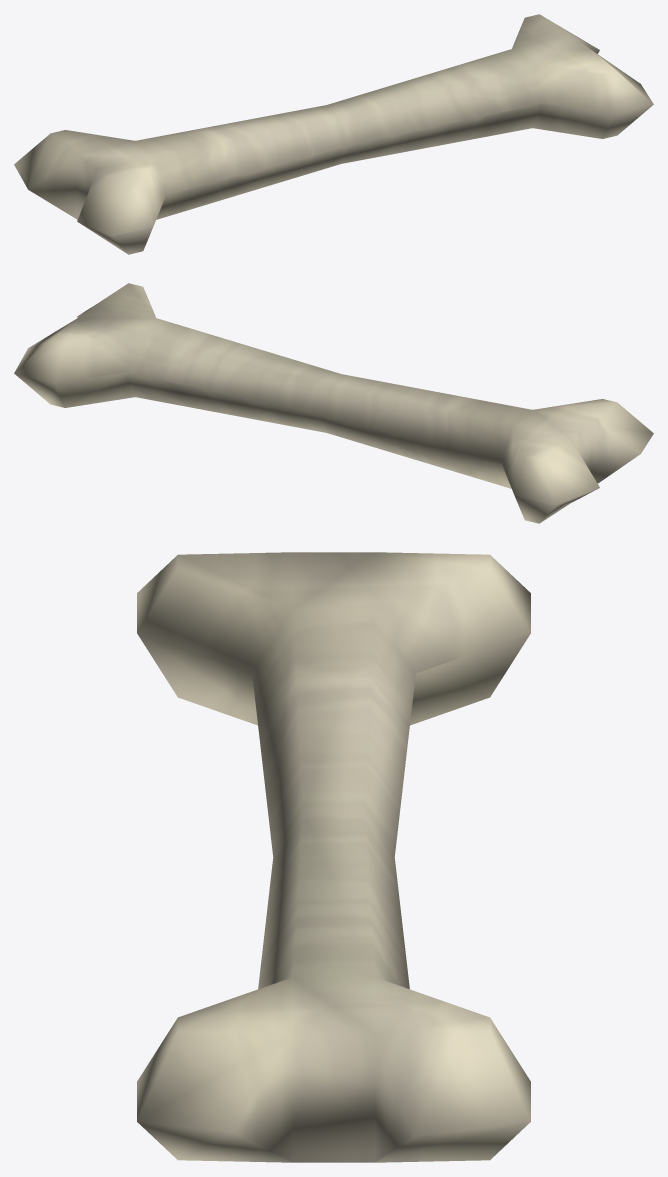
Rendered from Ctn_horse_skeleton_01_v03.fbx.
The picture shows the model from 3 angles, top to bottom: view 1: azimuth 30°, elevation 25°; view 2: azimuth 150°, elevation 25°; view 3: azimuth 270°, elevation 25°; orthographic projection. The views are drawn at different scales.
Parts seen in each view (by area): view 1: horse_skeleton_01_v03; view 2: horse_skeleton_01_v03; view 3: horse_skeleton_01_v03.
Boxes of the visible parts, x1,y1,x2,y2 form: horse_skeleton_01_v03: (14, 14, 653, 254); horse_skeleton_01_v03: (14, 283, 653, 523); horse_skeleton_01_v03: (137, 552, 530, 1162).
Size of the model in its own units: 70.47 by 7.57 by 21.02.
